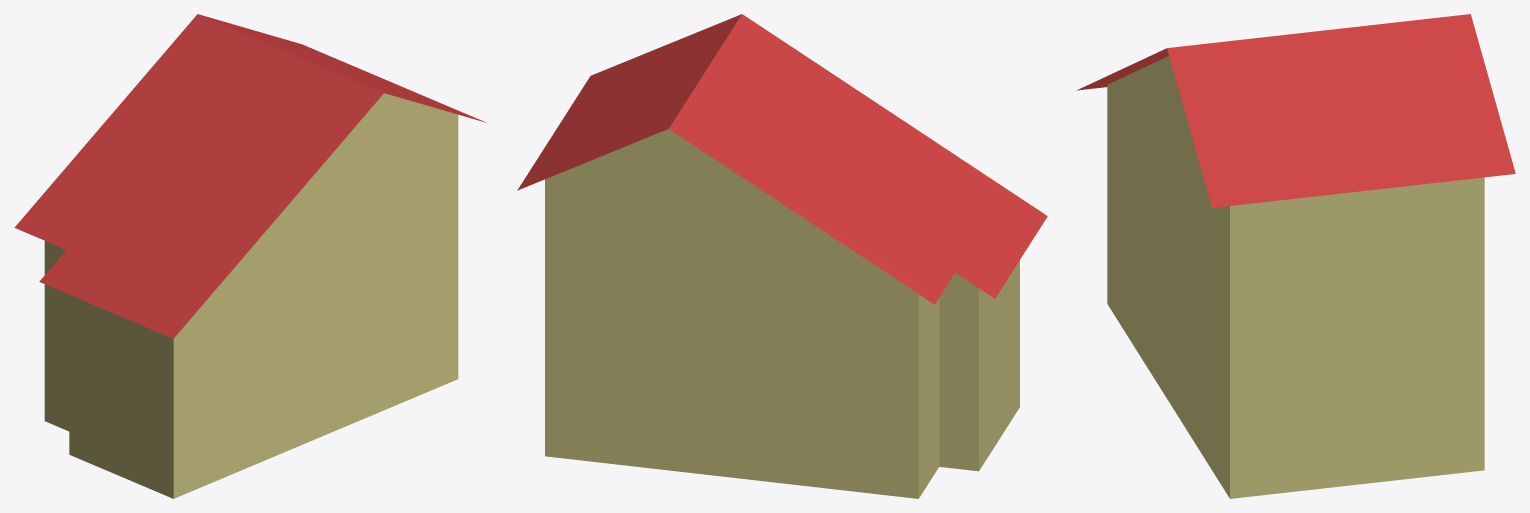
3 renders of one model, left to right at view 1: azimuth 30°, elevation 25°; view 2: azimuth 150°, elevation 25°; view 3: azimuth 270°, elevation 25°, orthographic. The views are drawn at different scales.
Bounding box in the file's own units: 16.8 × 12.98 × 12.78.
